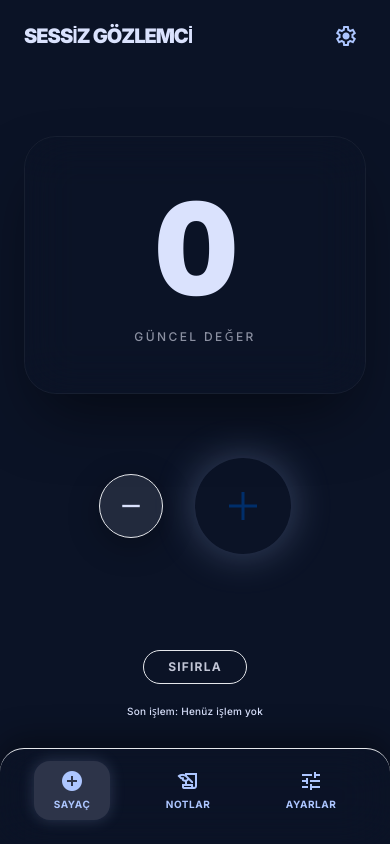
App integration › navigates to notes screen
Click the text "NOTLAR" at (188,804), box left=166, top=797, right=210, bottom=812
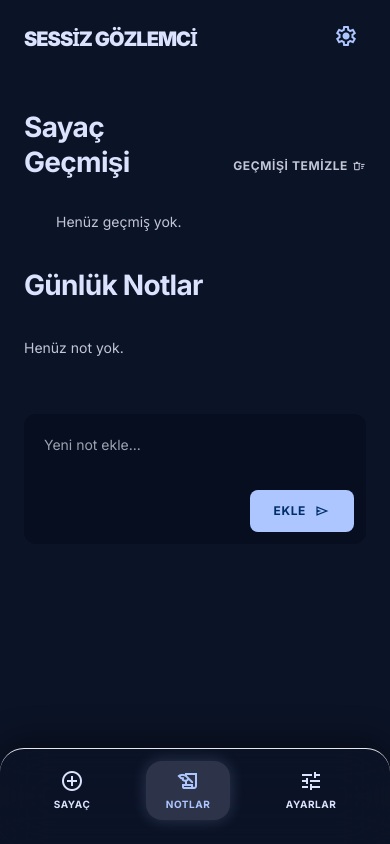
Expected: the heading "Sayaç" is shown, left=24, top=110, right=104, bottom=144
Expected: the heading "Günlük Notlar" is shown, left=24, top=268, right=203, bottom=302
